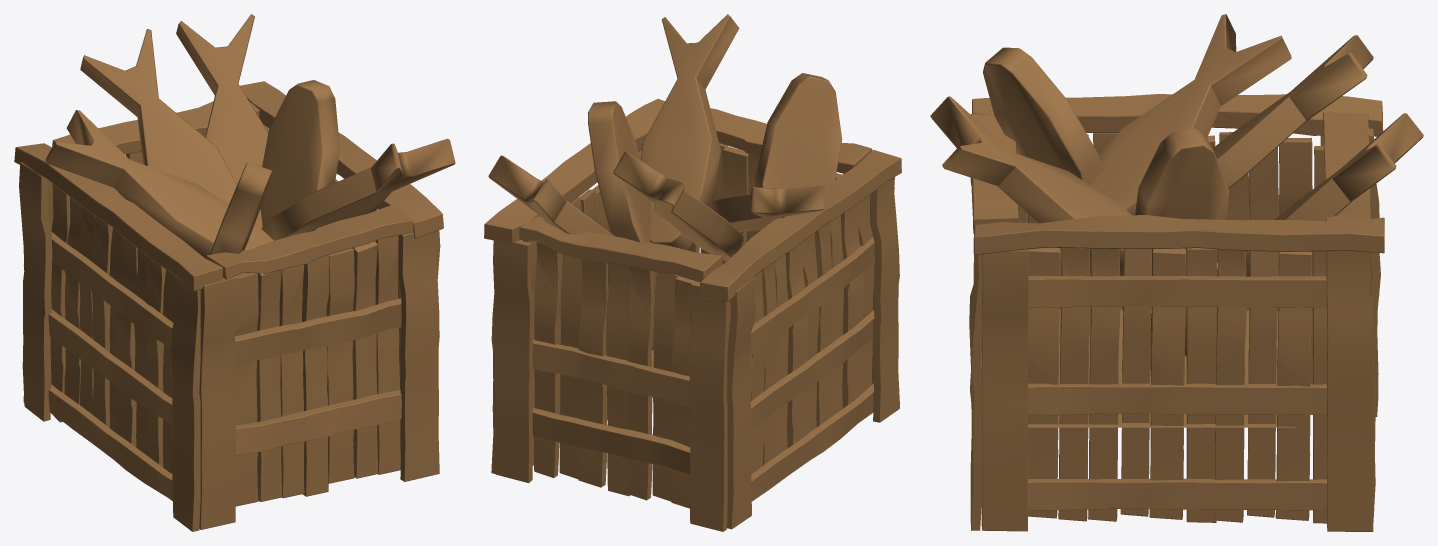
File: SM_BloqueurPoisson.fbx
3 views of the same model, side by side, from view 1: azimuth 30°, elevation 25°; view 2: azimuth 150°, elevation 25°; view 3: azimuth 270°, elevation 25° (orthographic). The views are drawn at different scales.
Visible parts, largest first — view 1: SM_BloqueurPoisson.fbx; view 2: SM_BloqueurPoisson.fbx; view 3: SM_BloqueurPoisson.fbx.
Part boxes in pixels (x1=…): SM_BloqueurPoisson.fbx: x1=14, y1=14, x2=455, y2=531; SM_BloqueurPoisson.fbx: x1=484, y1=14, x2=901, y2=531; SM_BloqueurPoisson.fbx: x1=930, y1=14, x2=1423, y2=531.
Bounding box in the file's own units: 192 × 230 × 251.
